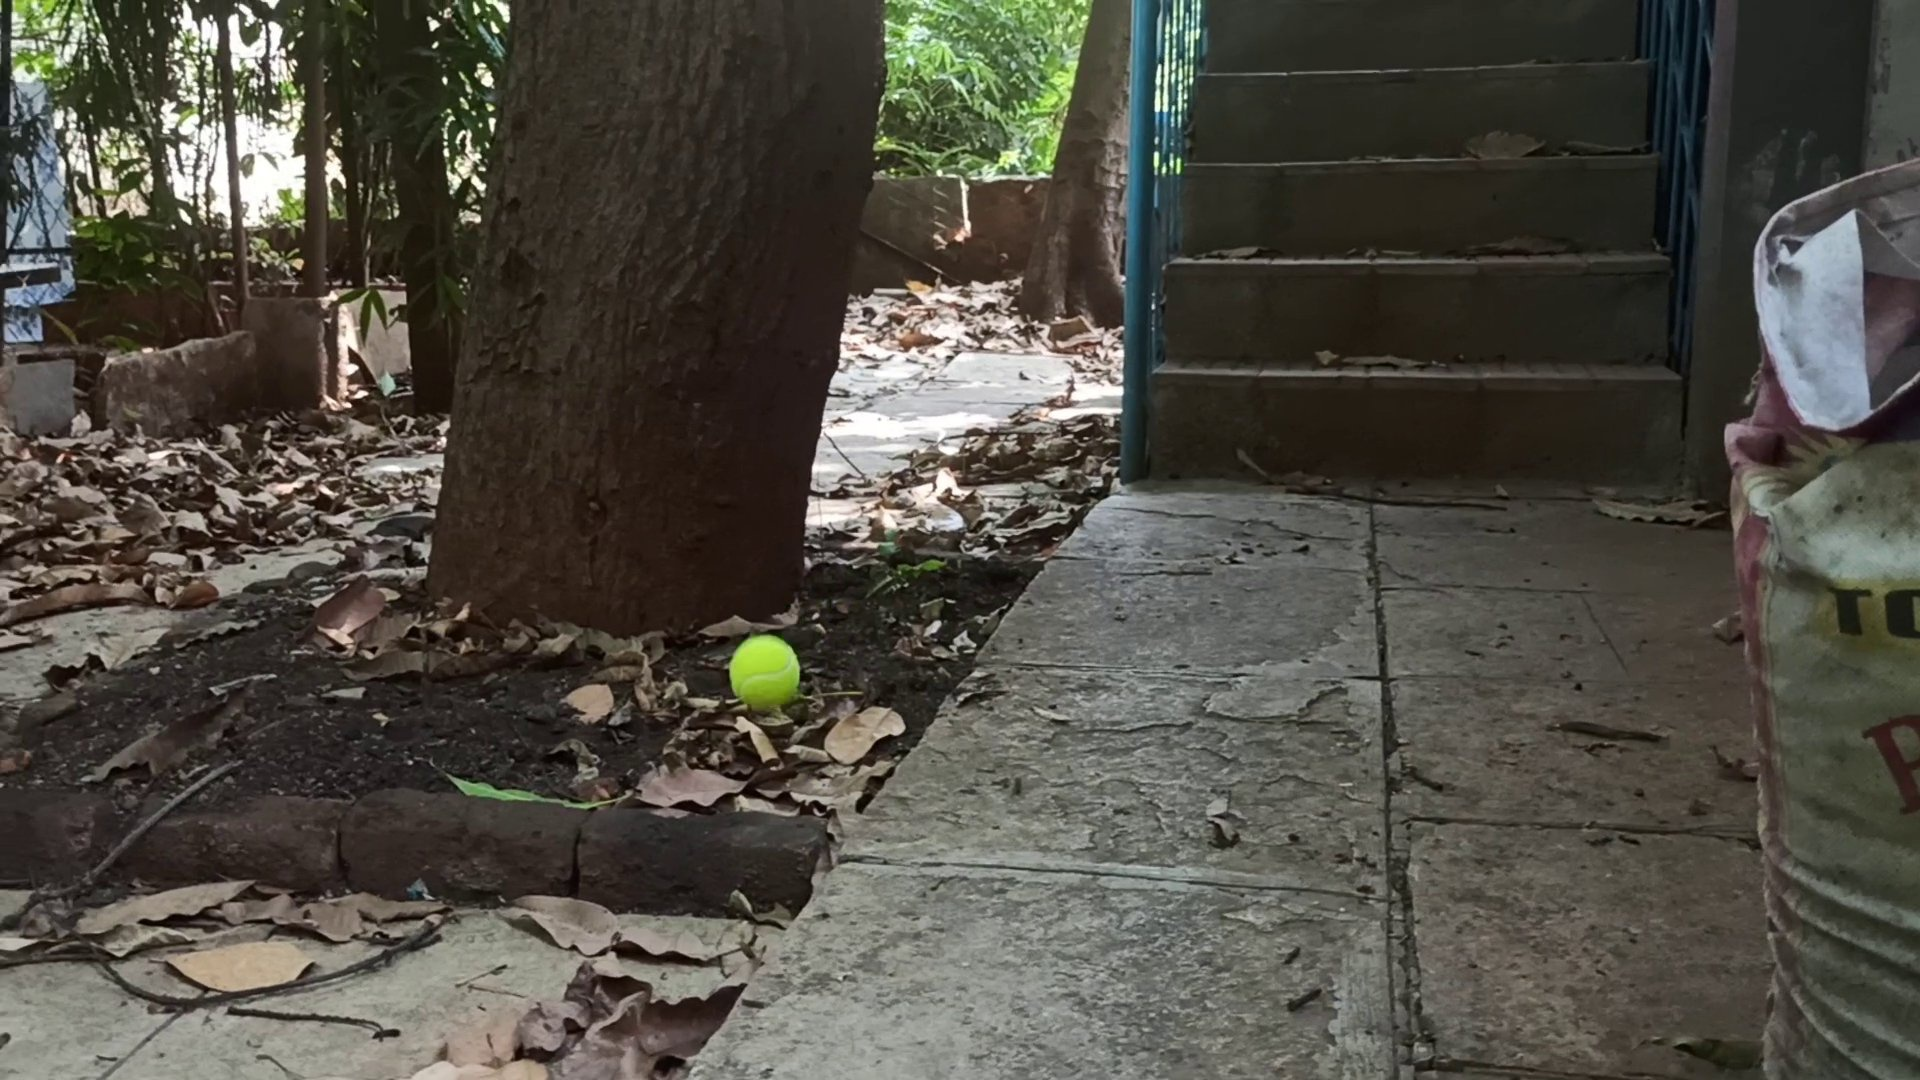Tennis-Ball: (729, 636, 799, 707)
